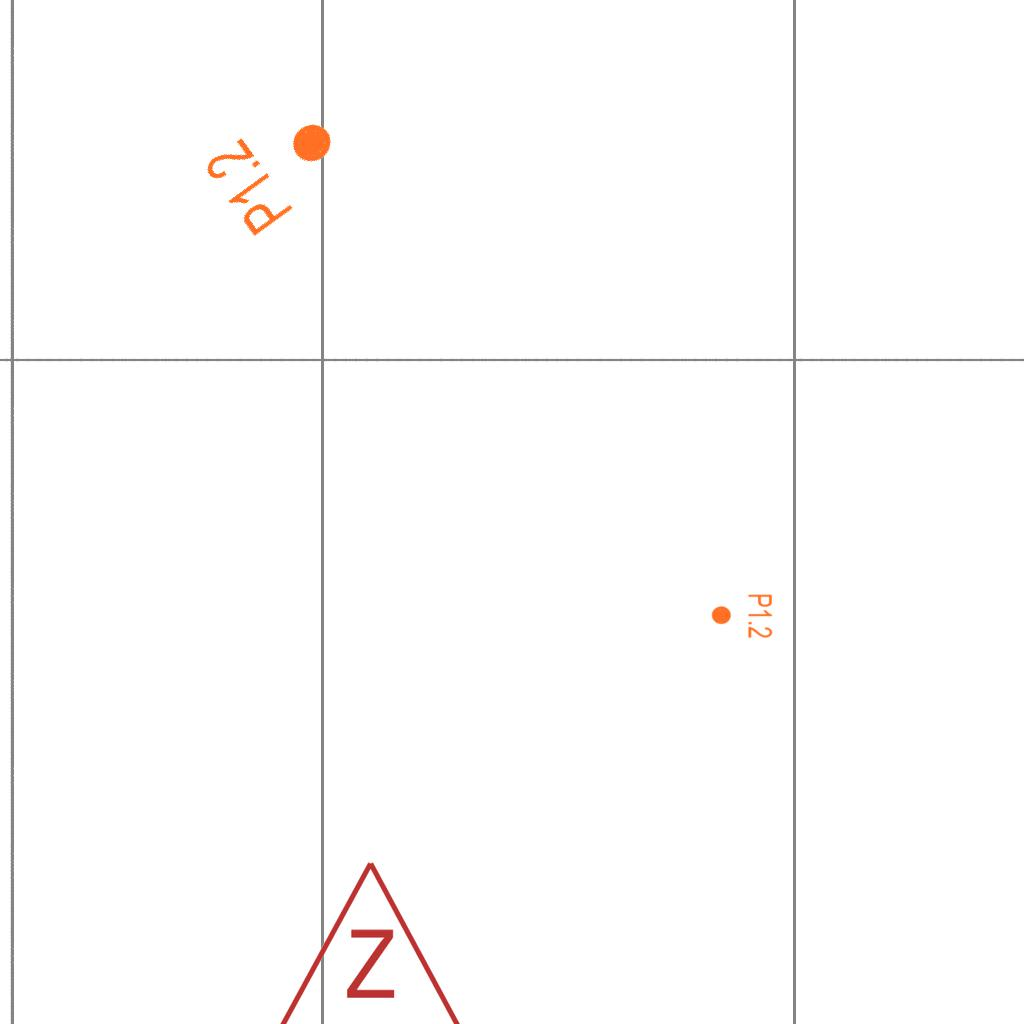Downlight_LED_Einbauleuchten_Flur: (198, 90, 357, 242), (710, 593, 774, 639)
Zimmersignalleuchte: (270, 848, 466, 1024)
